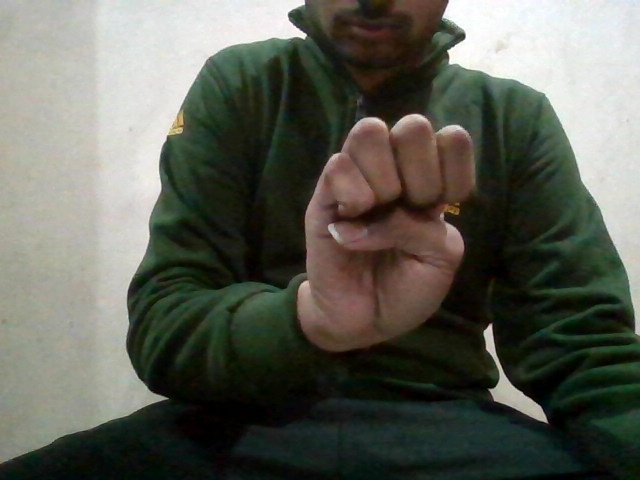E: (300, 110, 472, 345)
